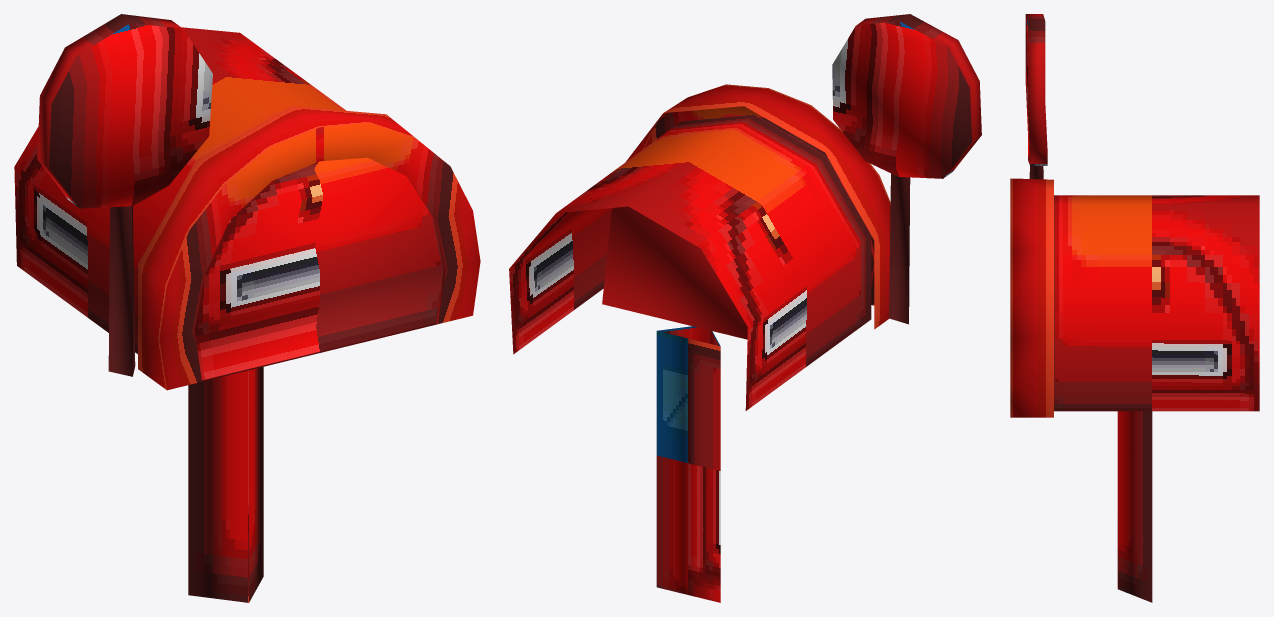
Rendered from int_post_A00.dae.
The picture shows the model from 3 angles, left to right: view 1: azimuth 30°, elevation 25°; view 2: azimuth 150°, elevation 25°; view 3: azimuth 270°, elevation 25°; orthographic projection. The views are drawn at different scales.
Visible parts, largest first — view 1: int_post_A00; view 2: int_post_A00; view 3: int_post_A00.
Part boxes in pixels (box(x1,y1,x2,y2)): int_post_A00: box(14, 14, 480, 602); int_post_A00: box(509, 14, 981, 602); int_post_A00: box(1010, 14, 1259, 602).
Bounding box in the file's own units: 26.36 × 39.85 × 17.89.
Materials: 1 (1 with a texture image).
